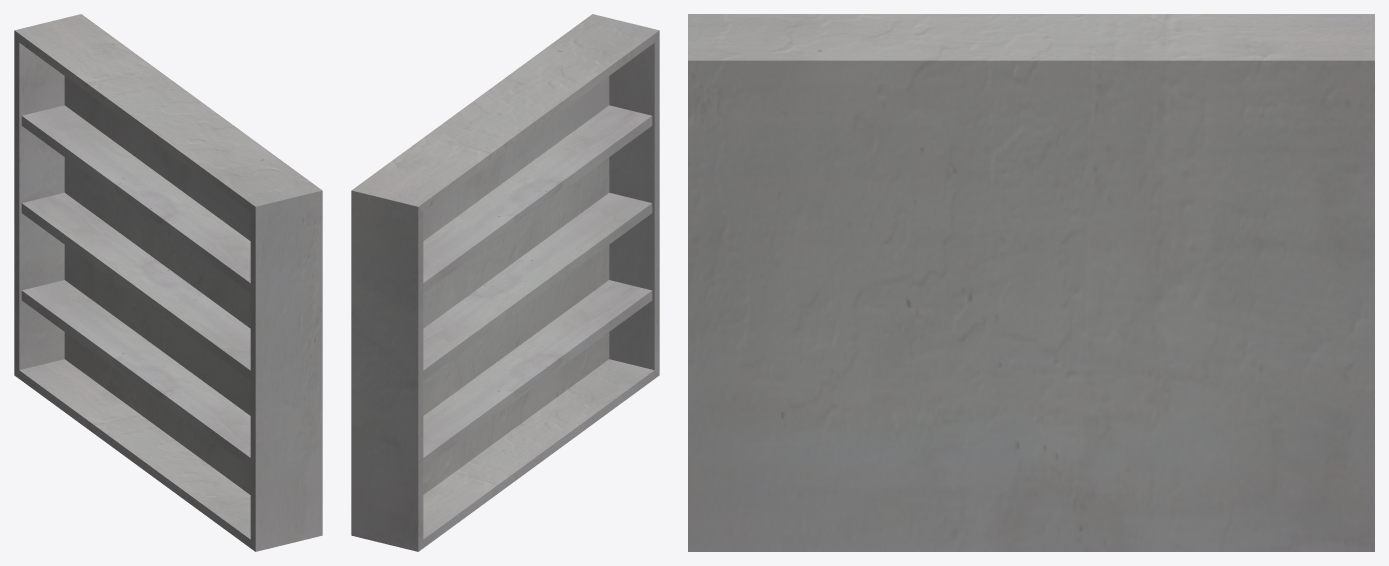
The model's file is Bookcase1.FBX.
3 views of the same model, side by side, from view 1: azimuth 30°, elevation 25°; view 2: azimuth 150°, elevation 25°; view 3: azimuth 270°, elevation 25° (orthographic). The views are drawn at different scales.
Visible parts, largest first — view 1: Bookcase1; view 2: Bookcase1; view 3: Bookcase1.
Part boxes in pixels (x1,y1,x2,y2): Bookcase1: [14, 14, 322, 551]; Bookcase1: [351, 14, 659, 551]; Bookcase1: [688, 14, 1374, 551].
Bounding box in the file's own units: 8 × 39.38 × 49.87.
